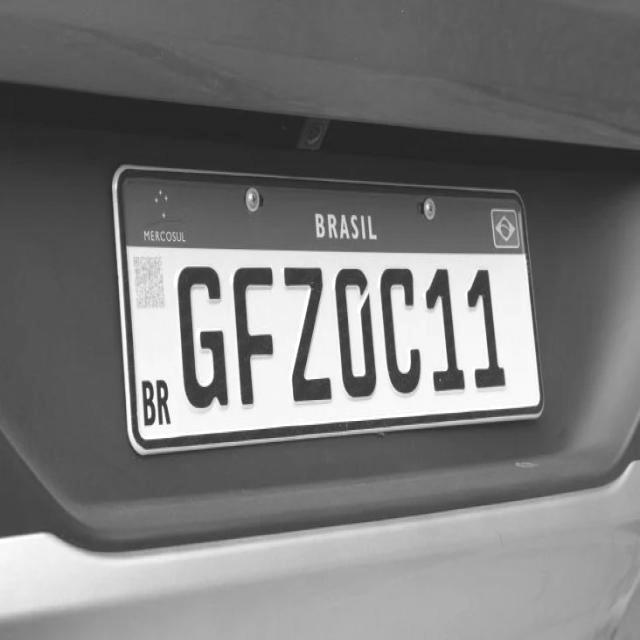placa_mercosul: (122, 167, 547, 450)
